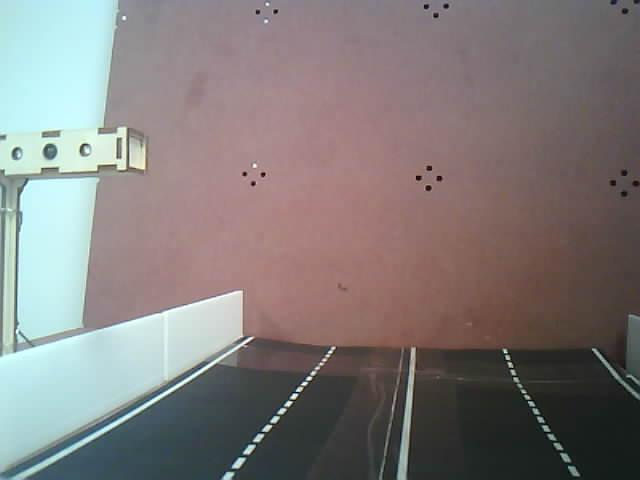no: (1, 104, 155, 201)
